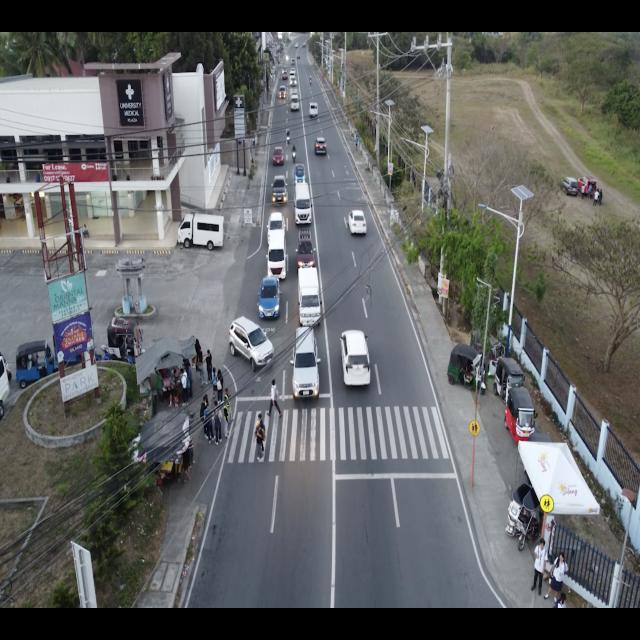car: (227, 314, 276, 374), (290, 325, 322, 406), (177, 210, 225, 254), (339, 328, 373, 389), (256, 274, 282, 323), (264, 230, 288, 282), (295, 228, 317, 274), (293, 182, 313, 228), (266, 210, 286, 249), (270, 174, 289, 206), (348, 209, 368, 237), (578, 175, 597, 198), (560, 176, 579, 196), (293, 161, 306, 188), (272, 146, 285, 168), (314, 136, 327, 156), (290, 94, 300, 113), (308, 100, 318, 119), (278, 85, 286, 99)
motorcycle: (291, 144, 297, 163), (286, 128, 290, 145), (309, 75, 312, 86)
person: (544, 552, 570, 605), (531, 537, 548, 597), (266, 378, 283, 420), (210, 400, 223, 447), (252, 420, 266, 463), (203, 402, 216, 446), (254, 412, 266, 453), (223, 386, 235, 426), (180, 368, 192, 408), (168, 368, 179, 409), (197, 350, 208, 386), (204, 348, 214, 384), (223, 401, 231, 440), (211, 366, 220, 400), (216, 368, 224, 406), (82, 224, 90, 239), (355, 135, 359, 151)
